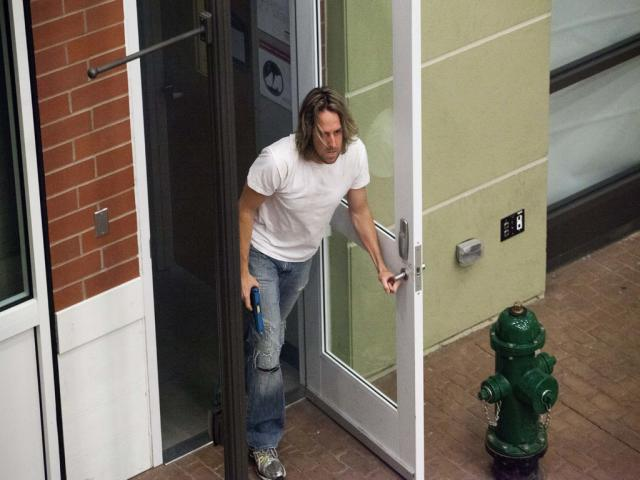Door-handle: (384, 268, 414, 290), (398, 213, 410, 262), (422, 262, 426, 269)
